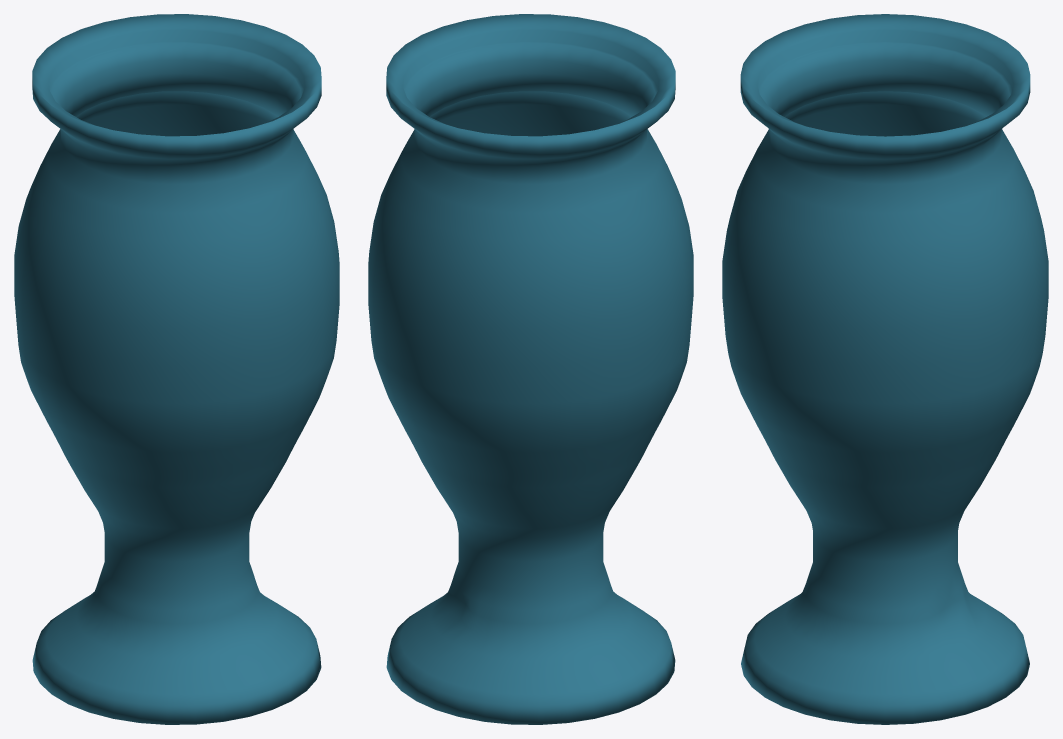
Rendered from Vase.fbx.
3 views of the same model, side by side, from view 1: azimuth 30°, elevation 25°; view 2: azimuth 150°, elevation 25°; view 3: azimuth 270°, elevation 25° (orthographic).
Visible parts, largest first — view 1: Cylinder; view 2: Cylinder; view 3: Cylinder.
Part boxes in pixels (box(x1,y1,x2,y2)): Cylinder: box(14, 14, 339, 724); Cylinder: box(368, 14, 693, 724); Cylinder: box(722, 14, 1048, 724).
Size of the model in its own units: 28.19 by 56.14 by 28.19.
